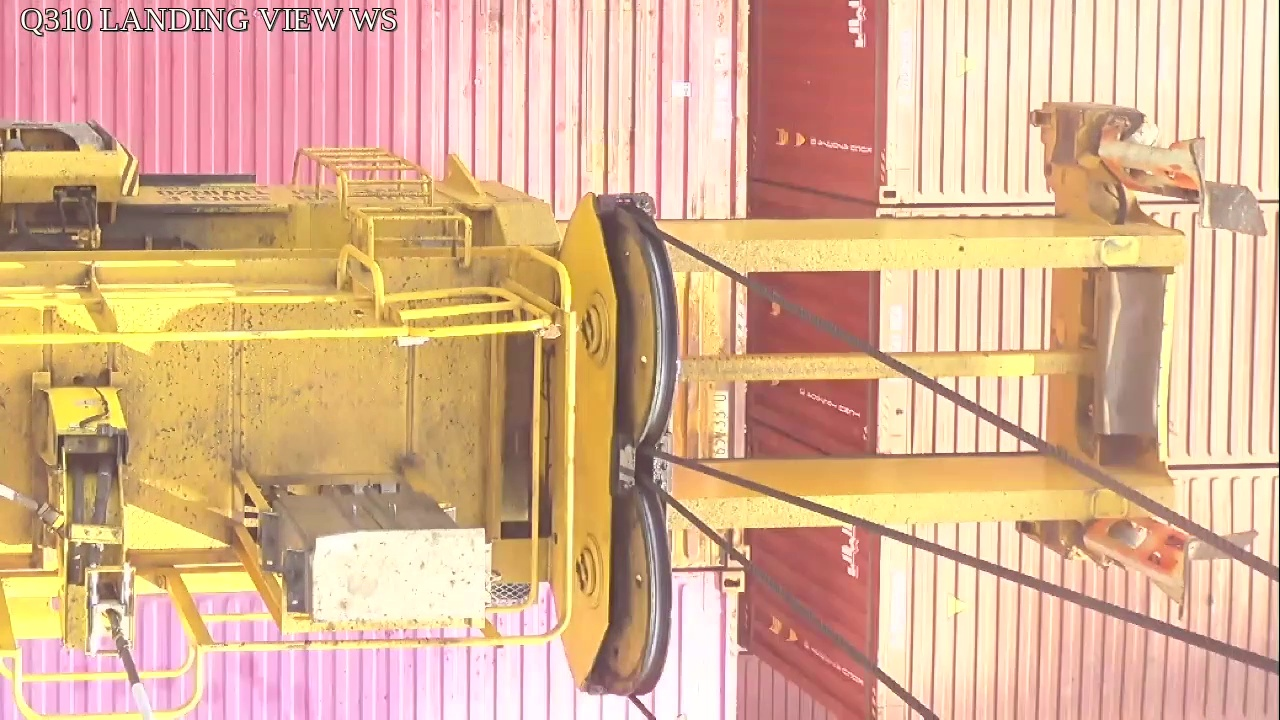right: (546, 194, 677, 691)
